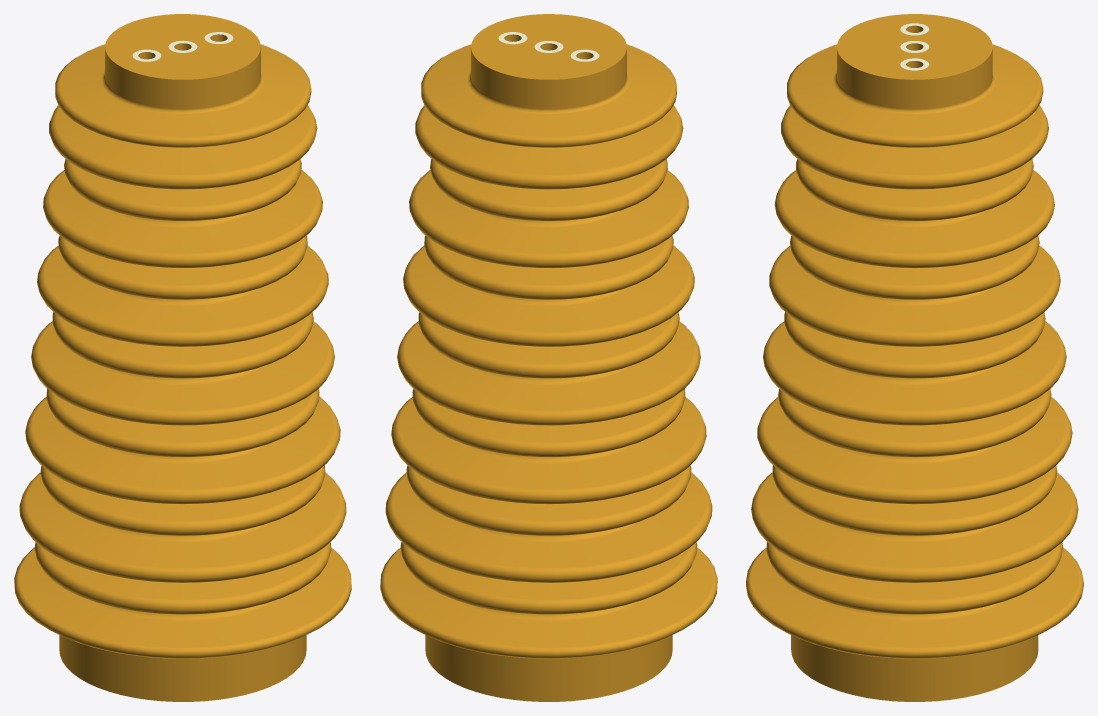
The model's file is 04.4_izolyator-emkostnoy-ie-35-163x320.glb.
3 views of the same model, side by side, from view 1: azimuth 30°, elevation 25°; view 2: azimuth 150°, elevation 25°; view 3: azimuth 270°, elevation 25° (orthographic).
Visible parts, largest first — view 1: 04.4_izolyator-emkostnoy-ie-35-163x320; view 2: 04.4_izolyator-emkostnoy-ie-35-163x320; view 3: 04.4_izolyator-emkostnoy-ie-35-163x320.
Boxes of the visible parts, x1,y1,x2,y2 form: 04.4_izolyator-emkostnoy-ie-35-163x320: (14, 14, 351, 701); 04.4_izolyator-emkostnoy-ie-35-163x320: (380, 14, 717, 701); 04.4_izolyator-emkostnoy-ie-35-163x320: (746, 14, 1083, 701).
Size of the model in its own units: 162 by 320 by 163.
